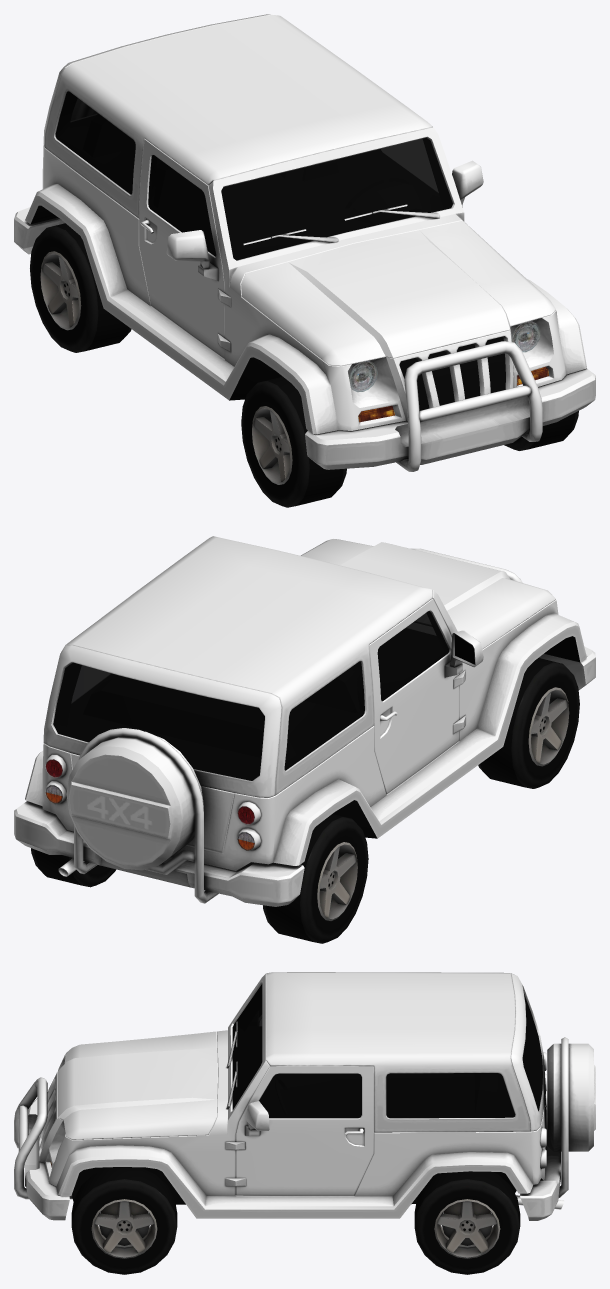
File: voiture_buggy.glb
3 views of the same model, one above another, from view 1: azimuth 30°, elevation 25°; view 2: azimuth 150°, elevation 25°; view 3: azimuth 270°, elevation 25° (orthographic). The views are drawn at different scales.
Visible parts, largest first — view 1: body, wheel_fr, wheel_rr, wheel_fl; view 2: body, wheel_fr, wheel_rr, wheel_rl; view 3: body, wheel_fl, wheel_rl.
Boxes of the visible parts, x1,y1,x2,y2 form: body: [14, 14, 595, 471]; wheel_fr: [241, 376, 346, 507]; wheel_rr: [30, 223, 131, 352]; wheel_fl: [504, 411, 578, 450]; body: [14, 536, 595, 906]; wheel_fr: [478, 658, 579, 788]; wheel_rr: [263, 814, 368, 943]; wheel_rl: [31, 848, 116, 887]; body: [14, 972, 595, 1220]; wheel_fl: [71, 1167, 177, 1274]; wheel_rl: [414, 1171, 520, 1274].
Bounding box in the file's own units: 2.19 × 1.75 × 4.4.
Materials: 4 (3 with a texture image).
